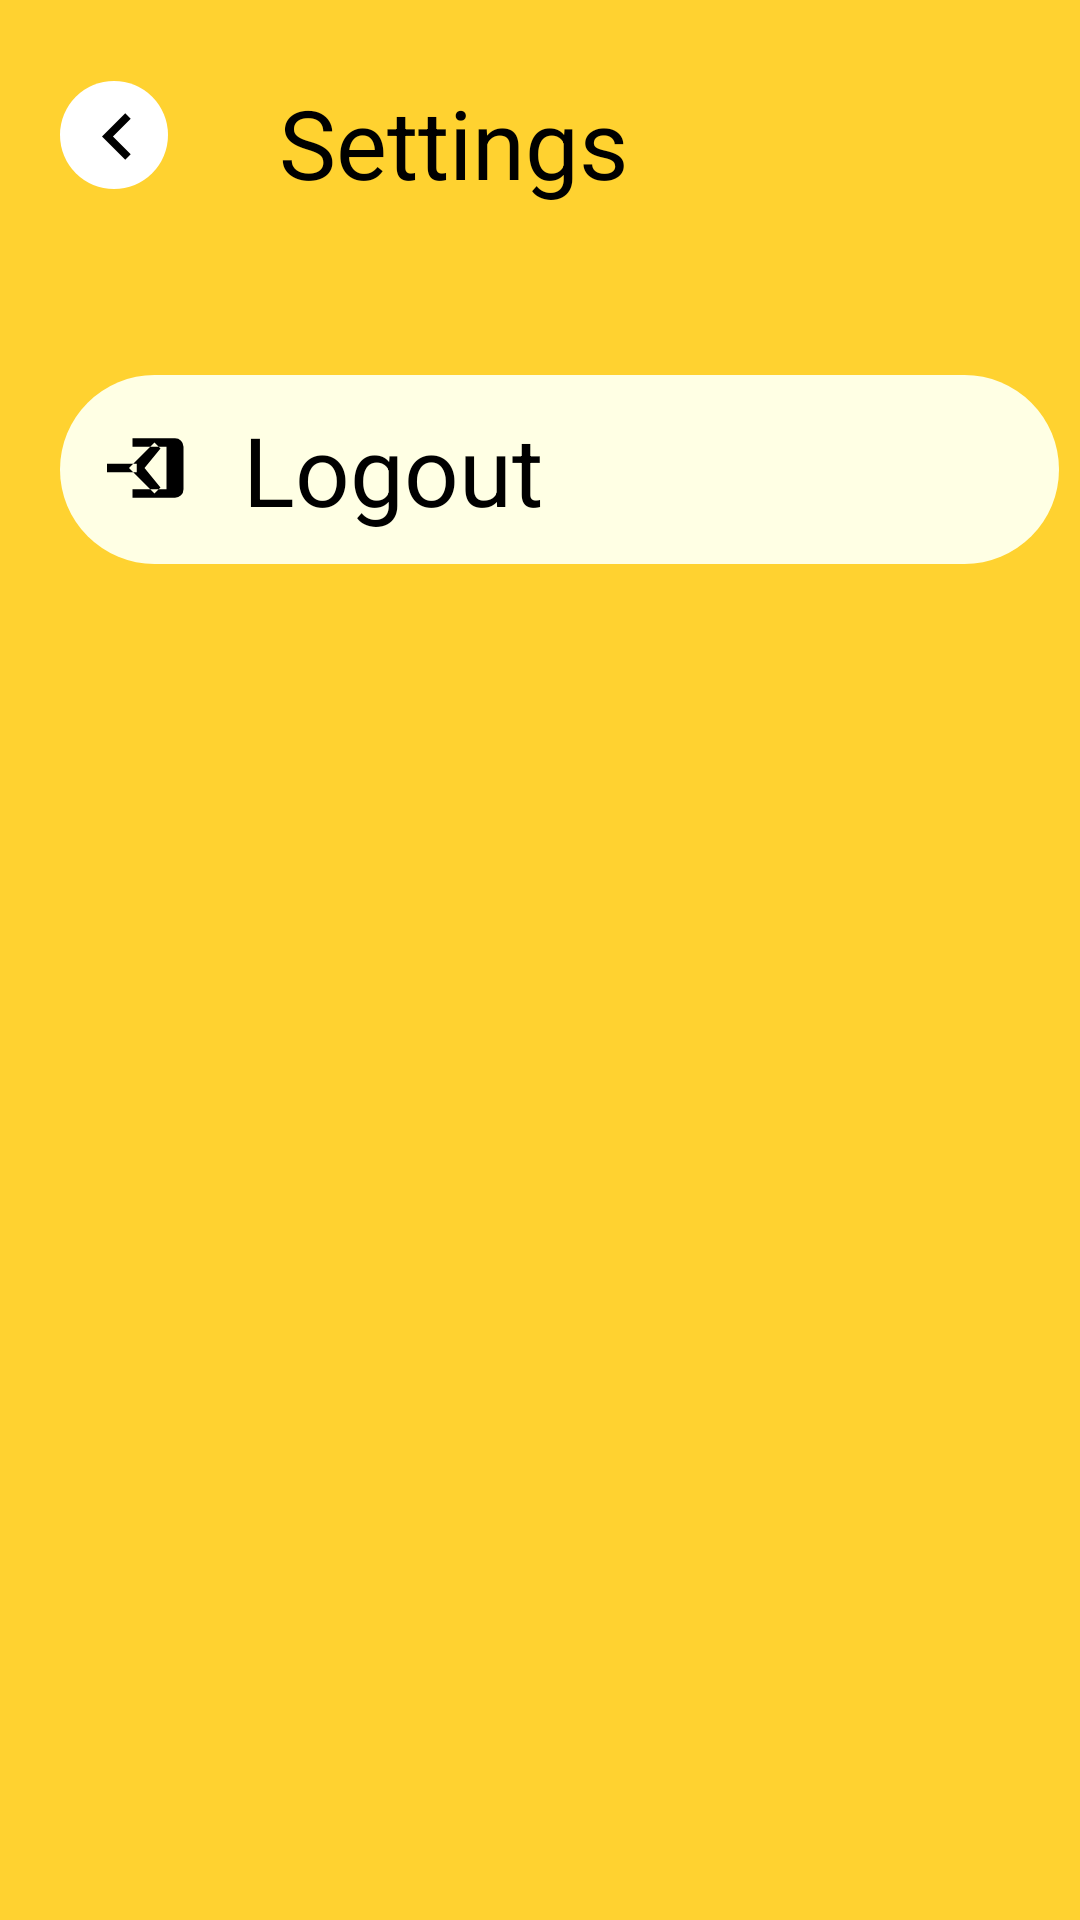

Icon click points for this 1080x1920 phone screenshot, format (x,y):
arrow: (114,136)
